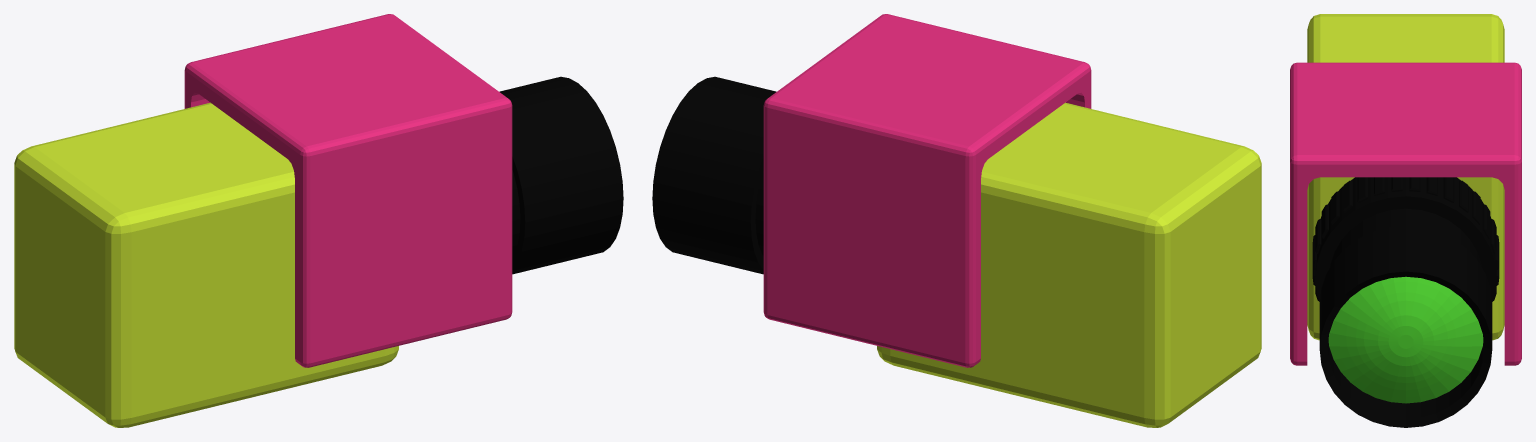
Rendered from camera.fbx.
The picture shows the model from 3 angles, left to right: view 1: azimuth 30°, elevation 25°; view 2: azimuth 150°, elevation 25°; view 3: azimuth 270°, elevation 25°; orthographic projection. The views are drawn at different scales.
Visible parts, largest first — view 1: Cube; view 2: Cube; view 3: Cube.
Part boxes in pixels (box(x1,y1,x2,y2)): Cube: box(14, 14, 623, 427); Cube: box(652, 14, 1261, 427); Cube: box(1290, 14, 1521, 427).
Bounding box in the file's own units: 903 × 413 × 368.
